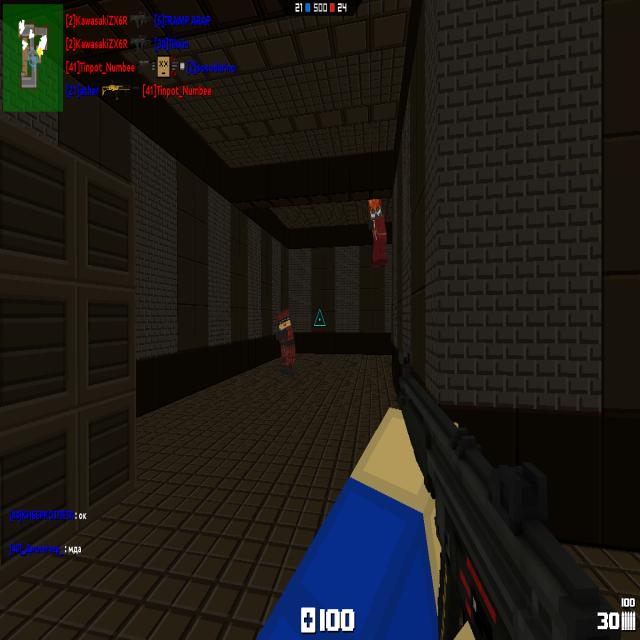enemy: (367, 196, 389, 270), (274, 307, 296, 377)
